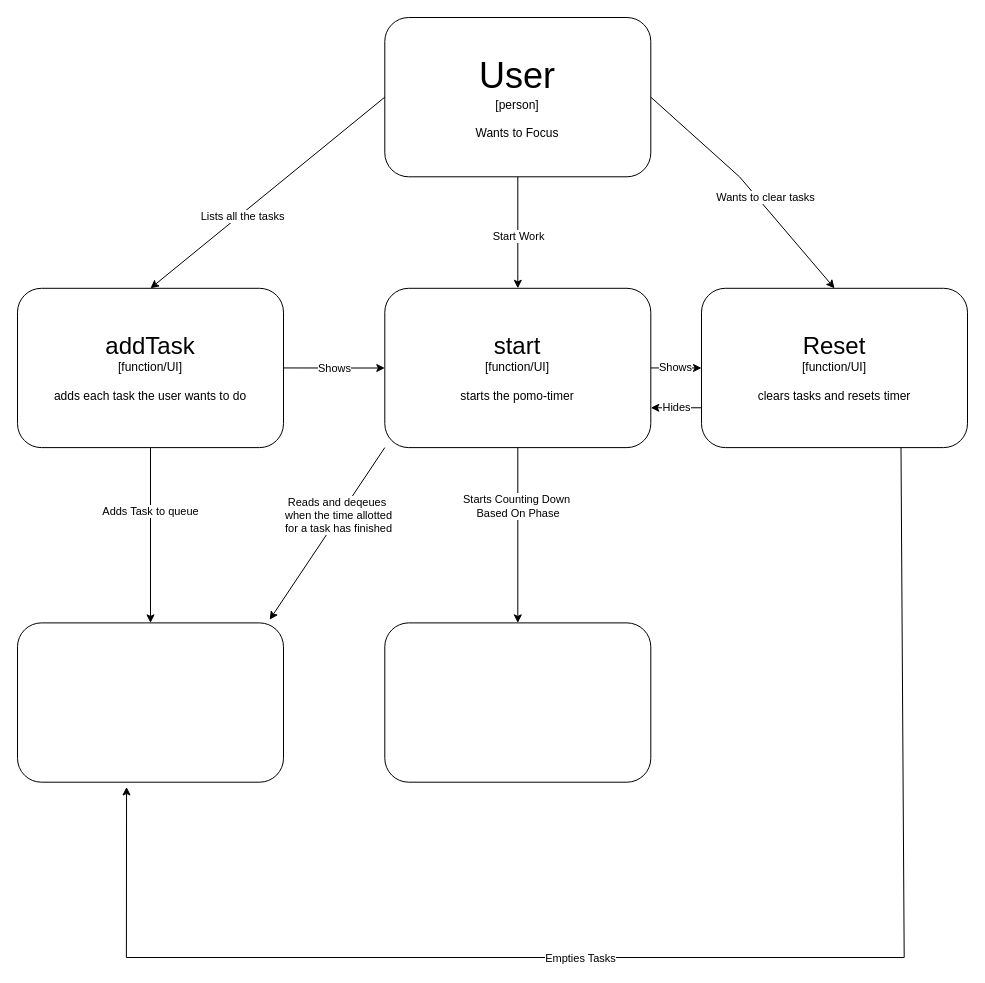
Image size: 985x983. Some labels were removed from this diagram. Here are the shapes that lost their labels. From the top down, the box of each, then its label:
(16, 622, 284, 782): tasks [data structure] queue of tasks
(384, 622, 651, 782): Timer [UI/HTML] Counts down depending on phase
